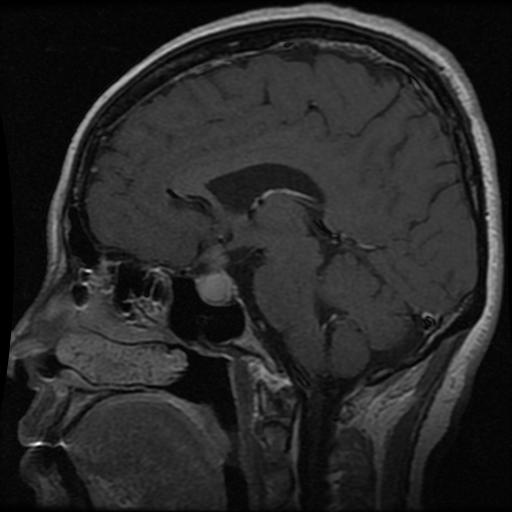Pituirity_tumour: (197, 245, 230, 305)
